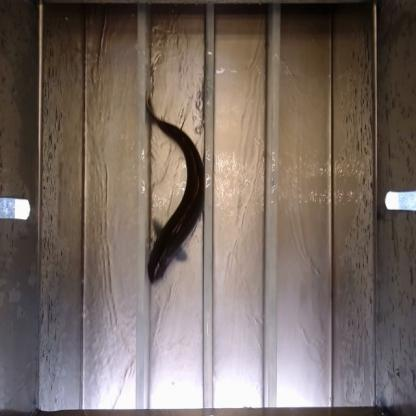pezw: (144, 93, 204, 286)
